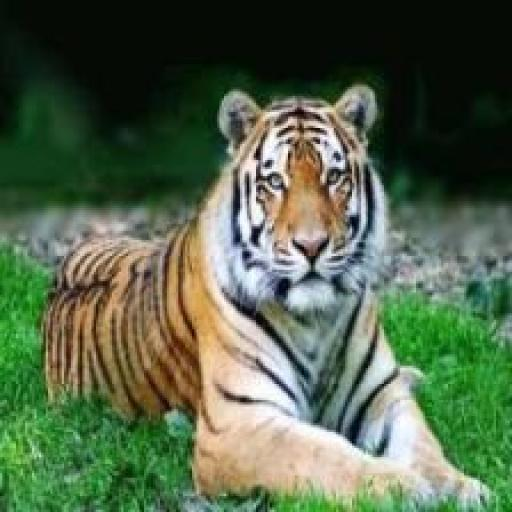Tiger: (39, 78, 496, 511)
